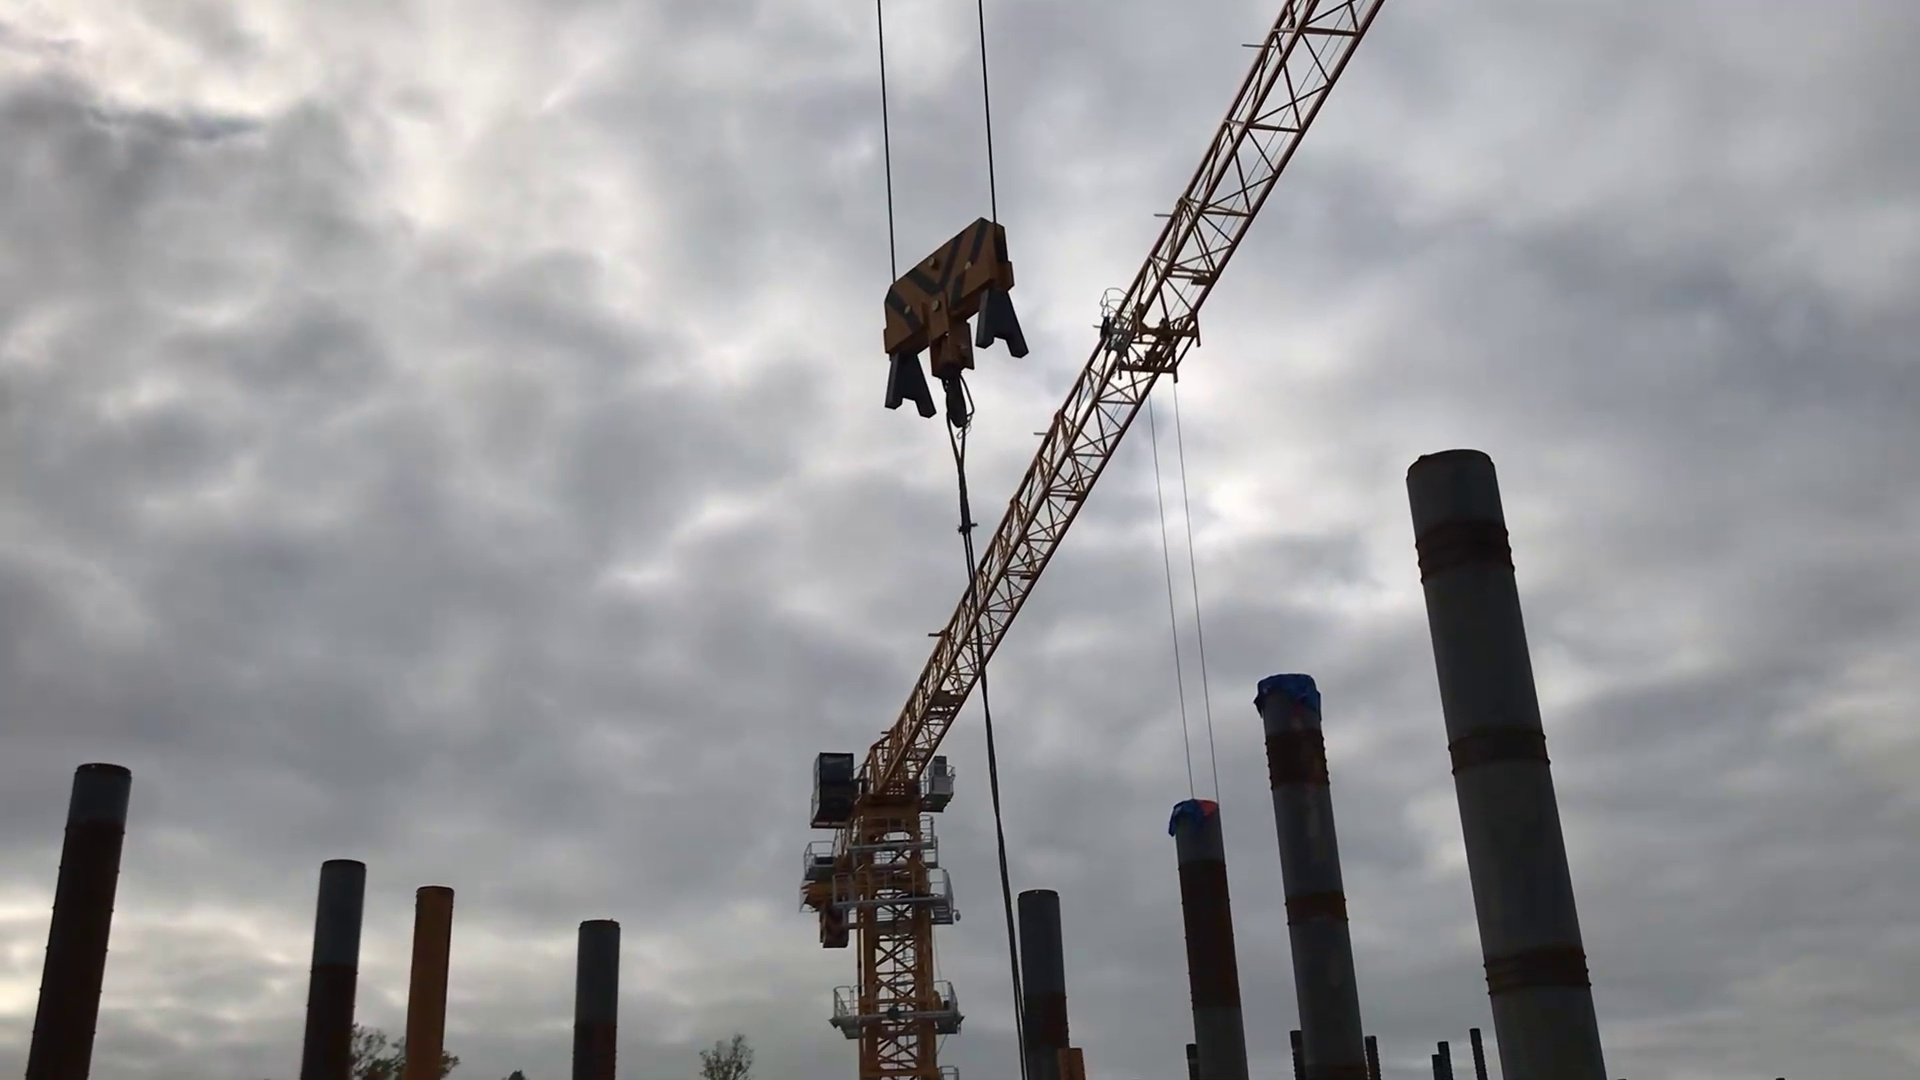hook: (874, 211, 1036, 446)
